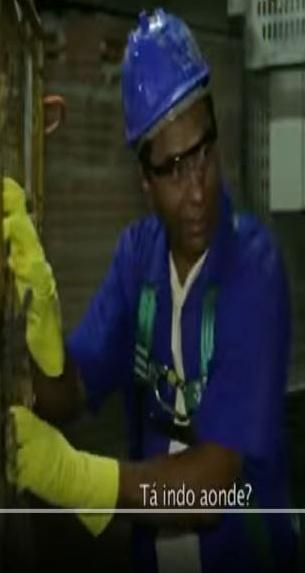hat: (70, 1, 251, 171)
no vest: (90, 195, 295, 564)
